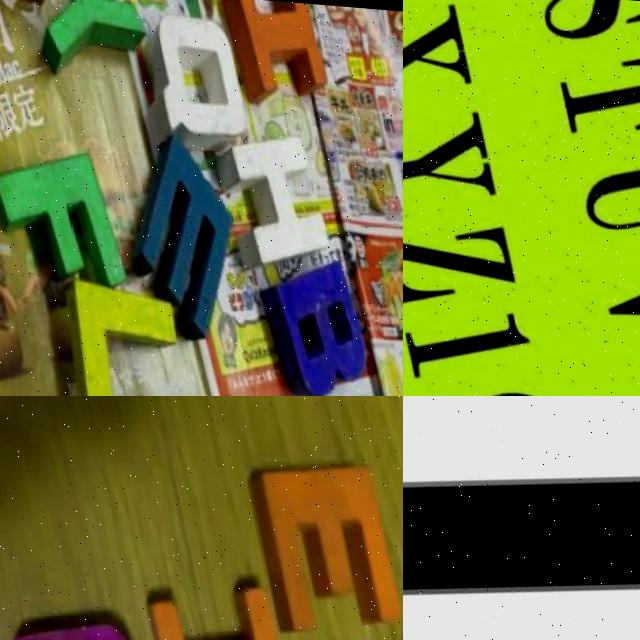1: (403, 285, 550, 389)
2: (403, 355, 559, 396)
B: (262, 247, 372, 396)
E: (241, 432, 400, 636)
F: (0, 137, 123, 290)
G: (0, 587, 156, 640)
H: (215, 125, 334, 264)
I: (136, 564, 294, 640), (223, 0, 328, 91)
L: (48, 266, 186, 396)
M: (120, 136, 247, 340)
Q: (141, 0, 249, 145)
U: (403, 396, 640, 637)
Y: (29, 0, 153, 71)
